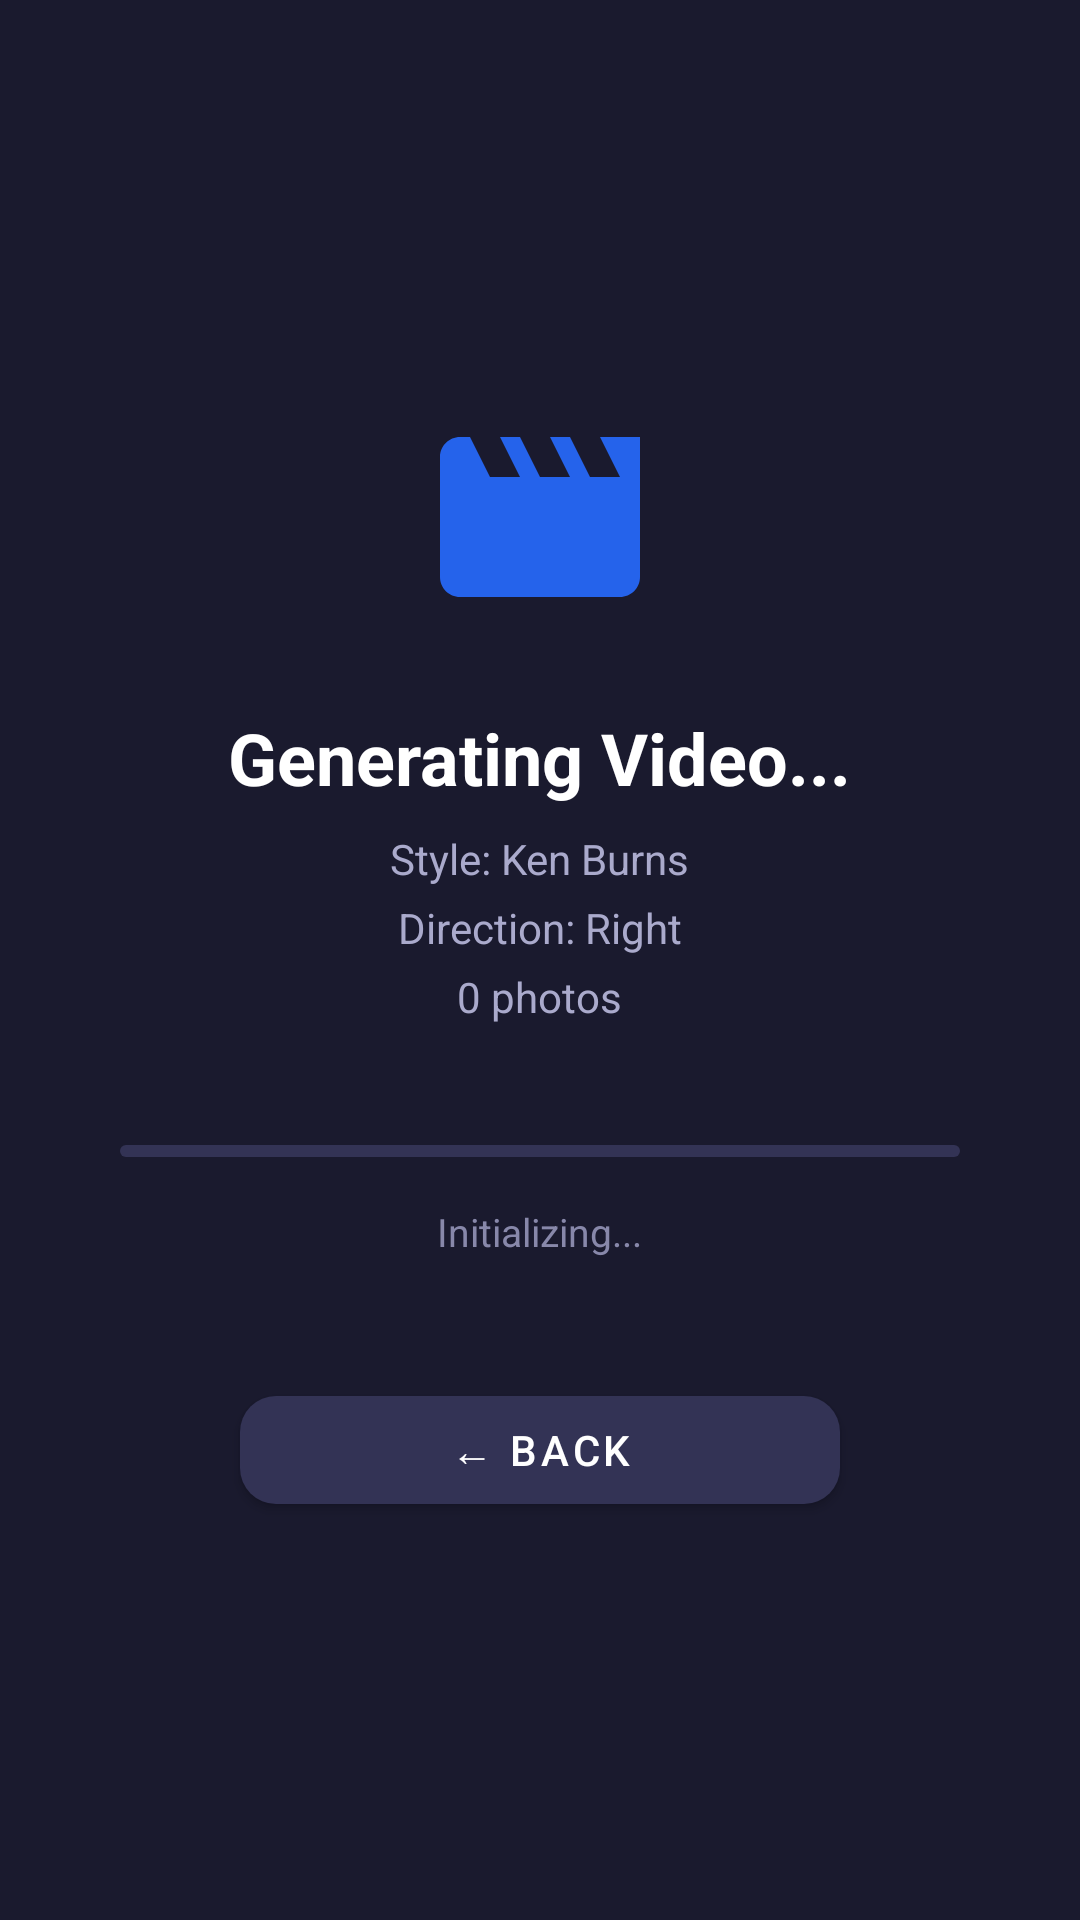

Named icons in this screenshot (1080×1920) and their centers, point (x, y):
film: point (540, 517)
